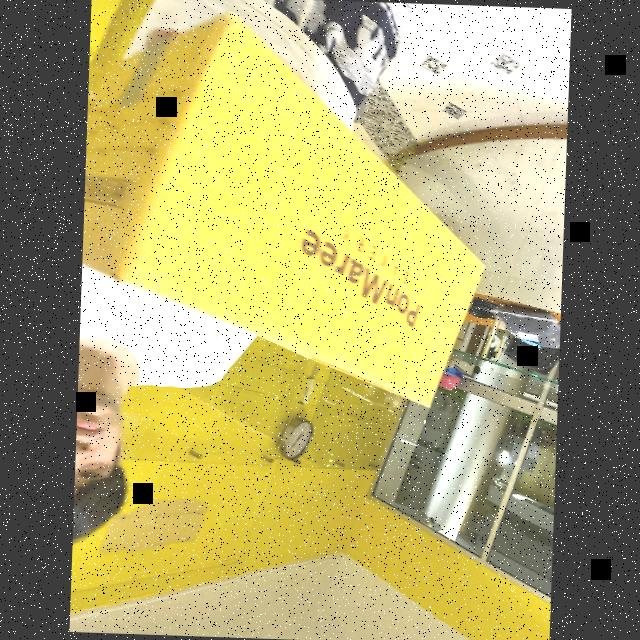cardboard_box: (82, 10, 489, 410)
